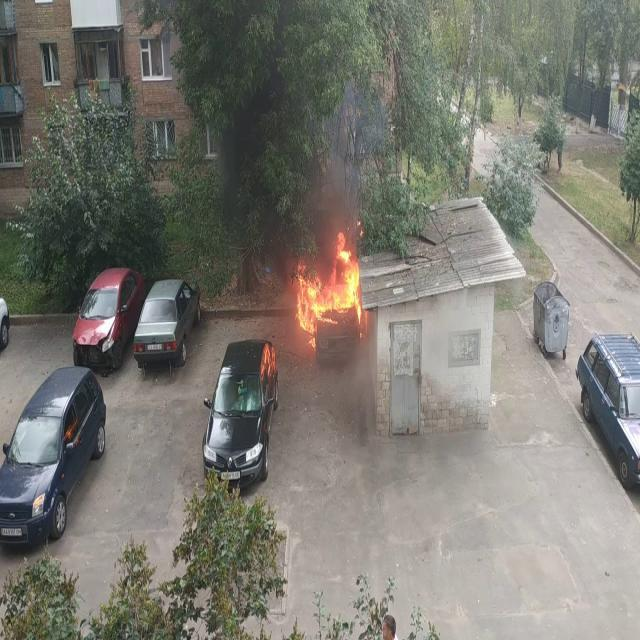Fire: (298, 231, 360, 346)
Smoke: (218, 71, 362, 286)
